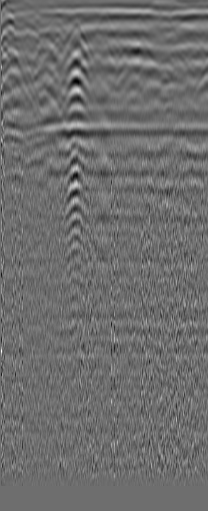오수: (31, 26, 61, 61)
우수: (162, 46, 192, 77)
